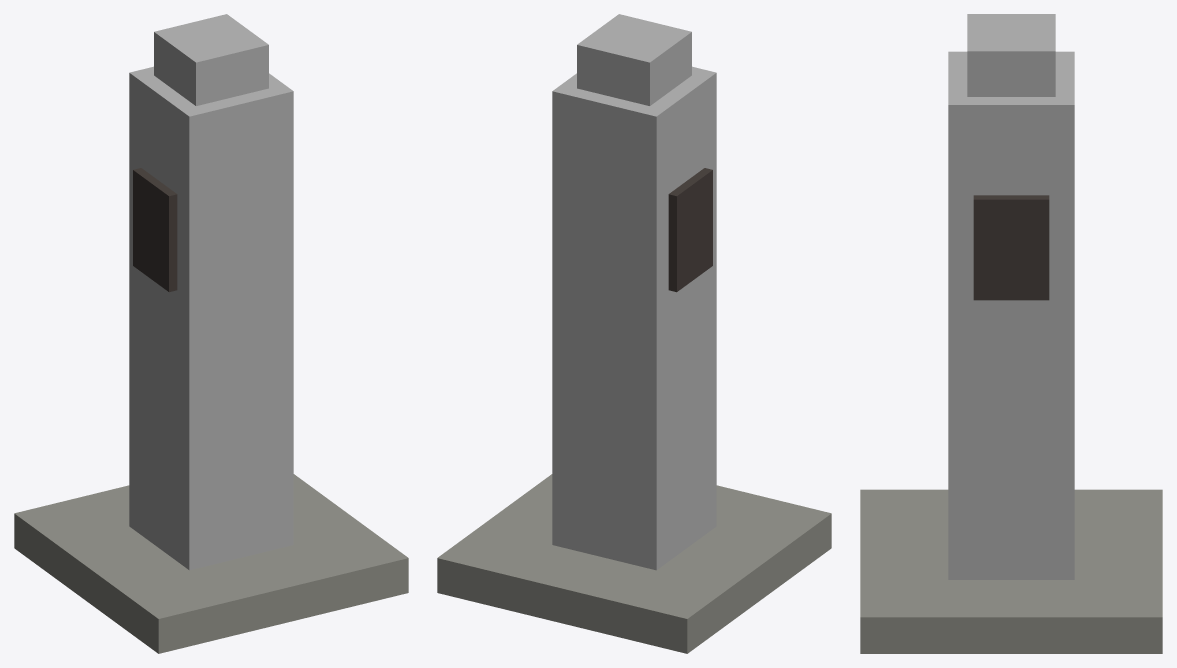
The model's file is SM_poste_km_v0_LOD0.fbx.
3 views of the same model, side by side, from view 1: azimuth 30°, elevation 25°; view 2: azimuth 150°, elevation 25°; view 3: azimuth 270°, elevation 25° (orthographic). The views are drawn at different scales.
Visible parts, largest first — view 1: SM_bloques.poste_km_v0_LOD0; view 2: SM_bloques.poste_km_v0_LOD0; view 3: SM_bloques.poste_km_v0_LOD0.
Boxes of the visible parts, box(x1,y1,x2,y2) form: SM_bloques.poste_km_v0_LOD0: box(14, 14, 408, 653); SM_bloques.poste_km_v0_LOD0: box(437, 14, 831, 653); SM_bloques.poste_km_v0_LOD0: box(860, 14, 1162, 653).
Bounding box in the file's own units: 0.6 × 1.22 × 0.6.
